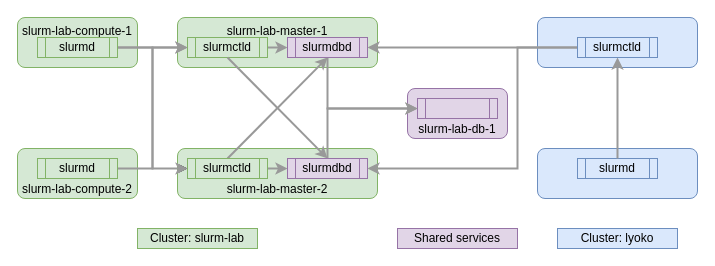
This 715x266 diagram has some shape labels left out. Each missing label, with the box of its shape:
mariadb: (416, 98, 498, 118)
slurm-lab-compute-lyoko-1: (536, 148, 698, 198)
slurm-lab-master-lyoko: (536, 16, 698, 68)
